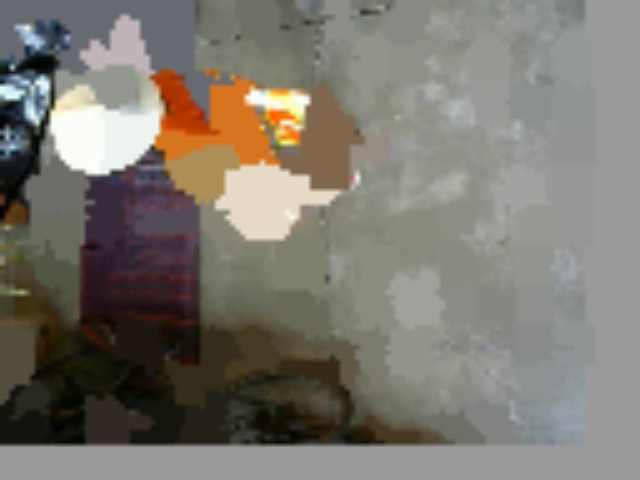two: (89, 74, 128, 107)
